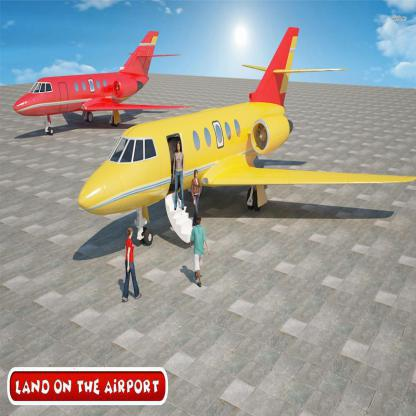CIV_Plane: (74, 25, 416, 237), (11, 30, 190, 132)
